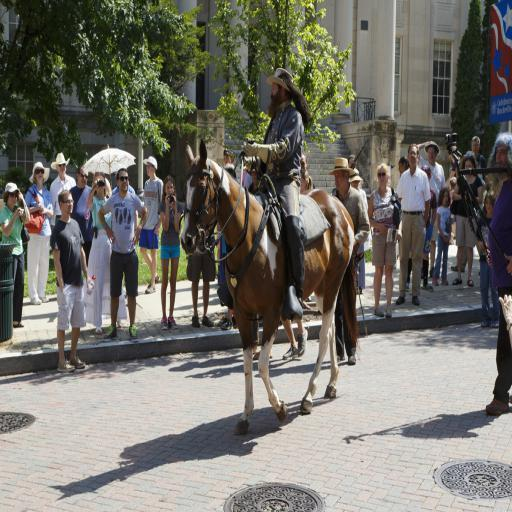horse: (178, 137, 363, 437)
